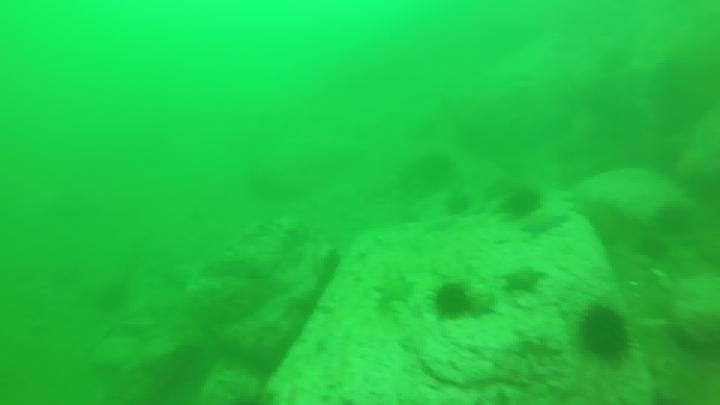echinus: (577, 305, 635, 360), (500, 190, 548, 222), (435, 282, 467, 319)
starfish: (372, 274, 421, 301), (502, 265, 545, 295), (525, 216, 567, 239)
